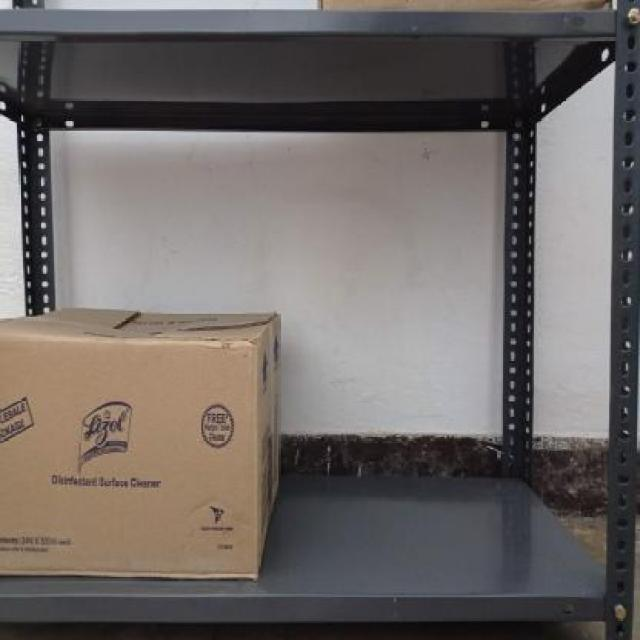box: (0, 340, 258, 577)
